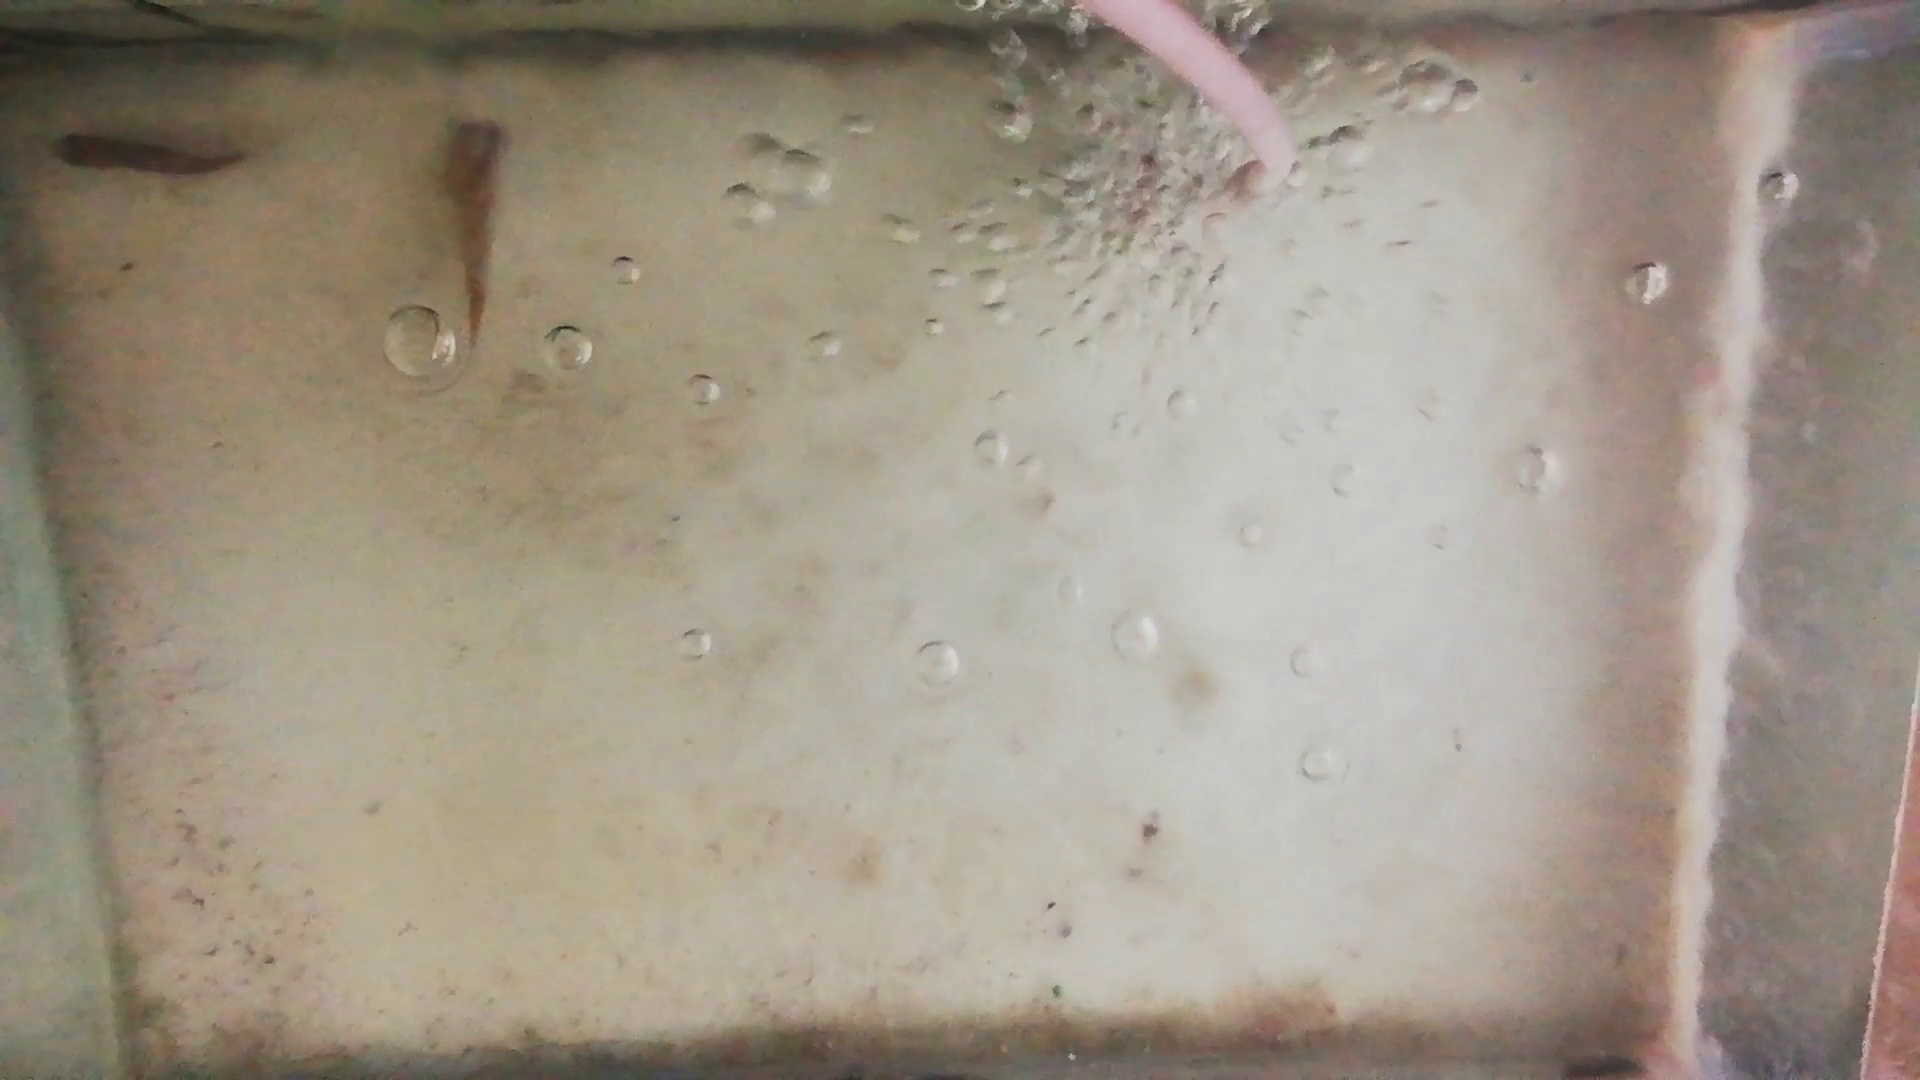fish: (444, 119, 510, 345), (49, 129, 248, 179)
